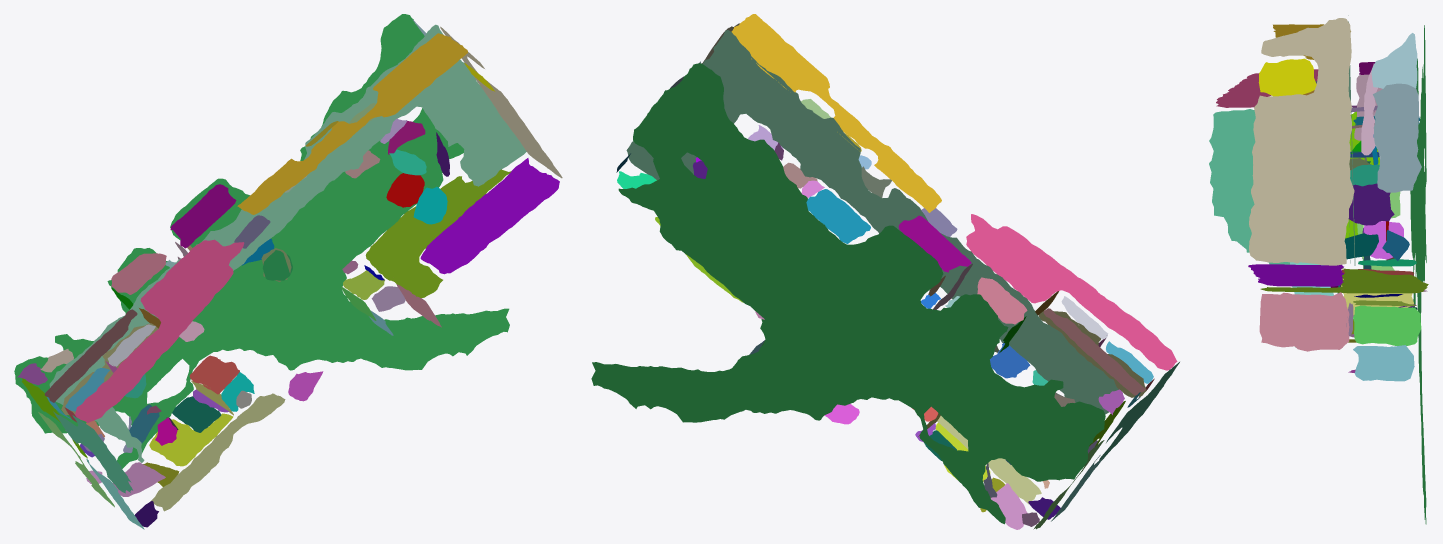
The model's file is pigs_scene0131.glb.
3 views of the same model, side by side, from view 1: azimuth 30°, elevation 25°; view 2: azimuth 150°, elevation 25°; view 3: azimuth 270°, elevation 25° (orthographic). The views are drawn at different scales.
Visible parts, largest first — view 1: world; view 2: world; view 3: world.
Part boxes in pixels (<box>): world: <box>14,14,562,529</box>; world: <box>591,14,1179,529</box>; world: <box>1209,15,1428,524</box>.
Bounding box in the file's own units: 7.86 × 6.19 × 2.33.
